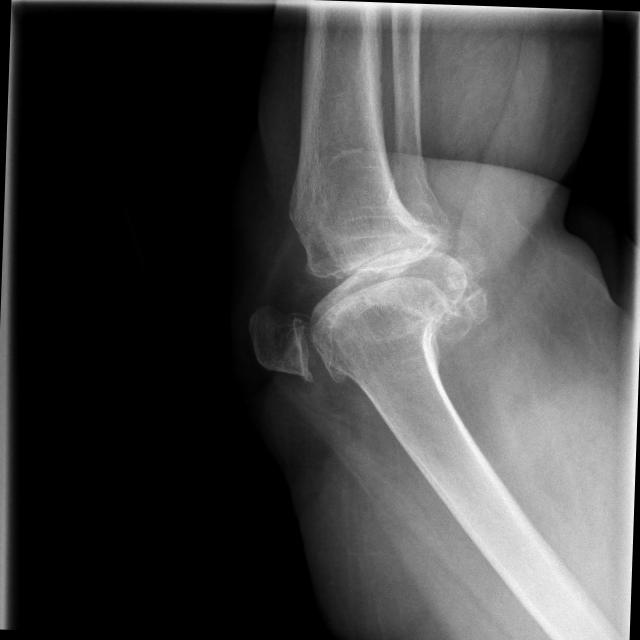Knee: (245, 172, 501, 390)
